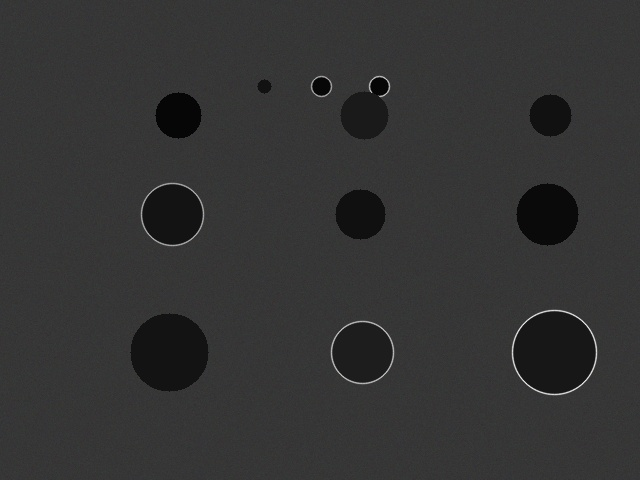hole: (512, 310, 596, 394), (130, 313, 208, 391), (141, 183, 203, 245), (516, 183, 578, 245), (331, 321, 393, 383), (335, 189, 385, 239), (340, 91, 388, 139), (155, 92, 201, 138), (529, 94, 571, 136), (311, 76, 331, 96), (369, 76, 389, 96), (257, 79, 271, 93)
